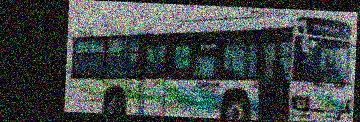bus: (67, 1, 354, 122)
